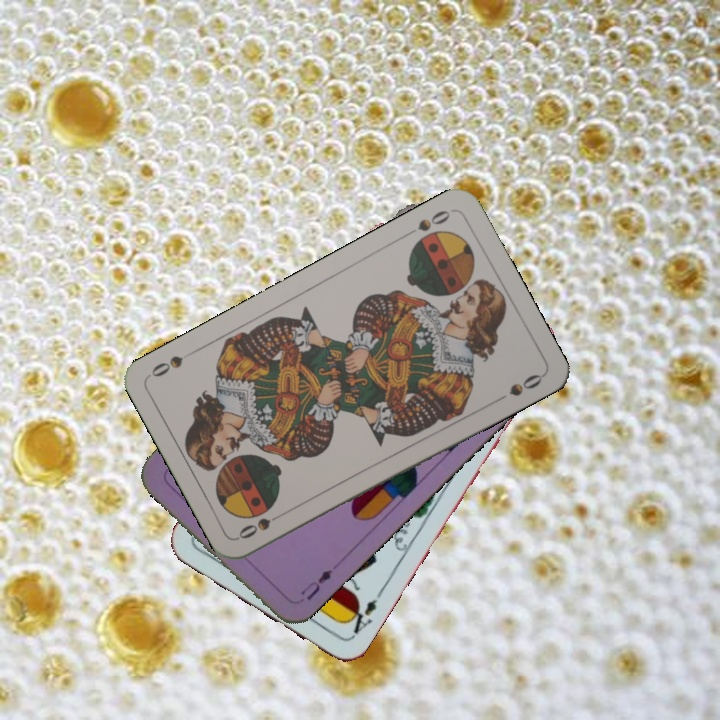EA: (341, 594, 380, 640)
EU: (296, 565, 335, 603)
SO: (234, 507, 289, 542), (400, 206, 453, 240)
